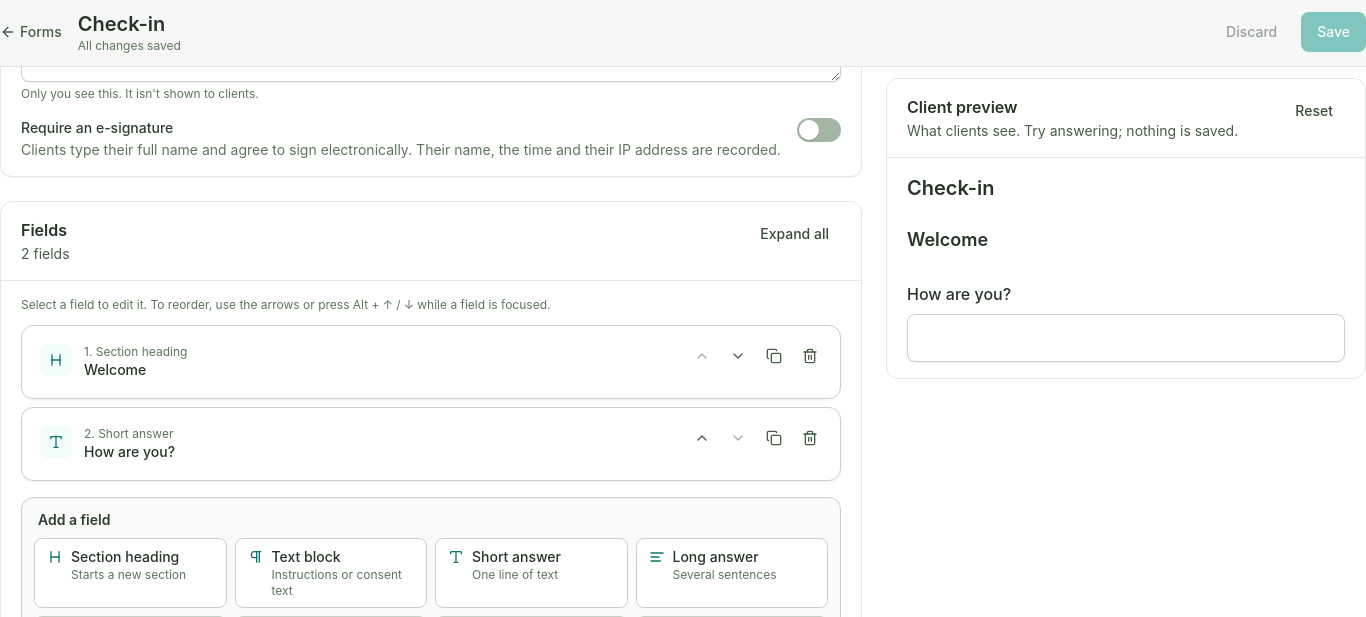
Test: TemplateEditorPage › blocks saving and points to the problem when a question has no text
The width and height of the screenshot is (1366, 617).
(page scrolled)
expect the list named "Form fields" is shown: met, box [21,325,841,481]
Click the button "Short answer One line of text" at (531, 573), box [435,538,628,608]
(page scrolled)
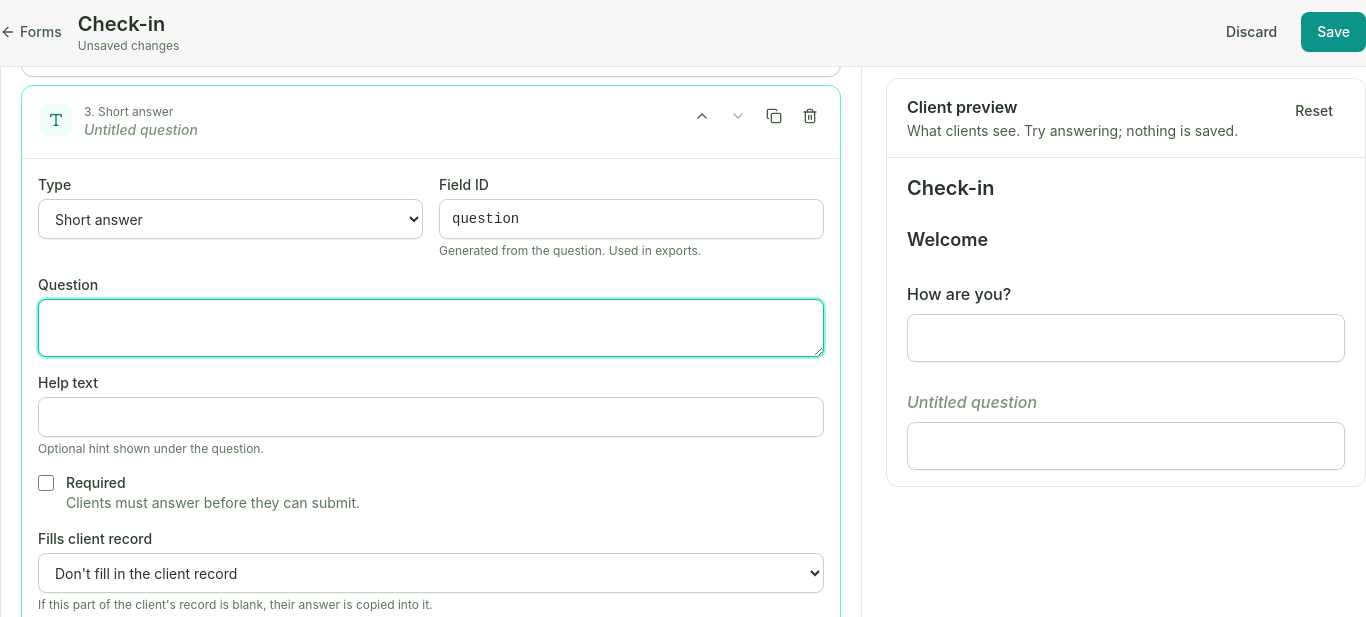
Click the button "Save" at (1334, 32), box [1301,12,1365,52]
(page scrolled)
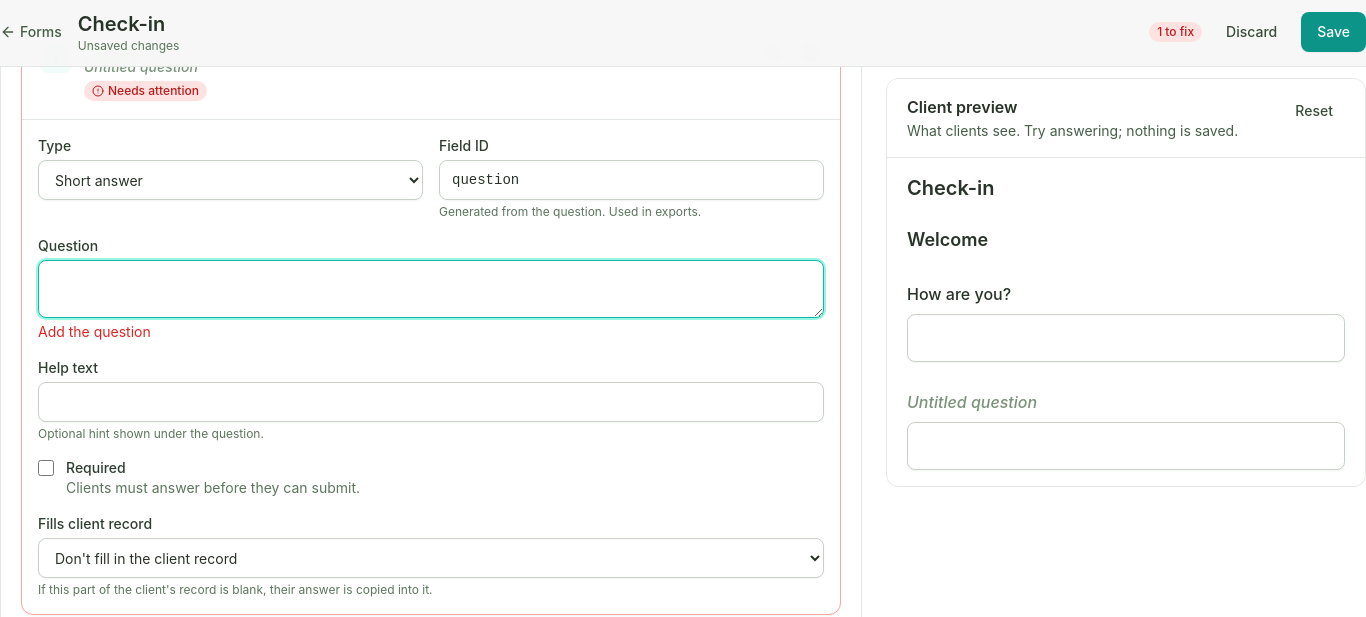
expect the text "Add the question" is shown: met, box [38,323,151,340]
expect the text "1 to fix" is shown: met, box [1149,22,1202,42]
